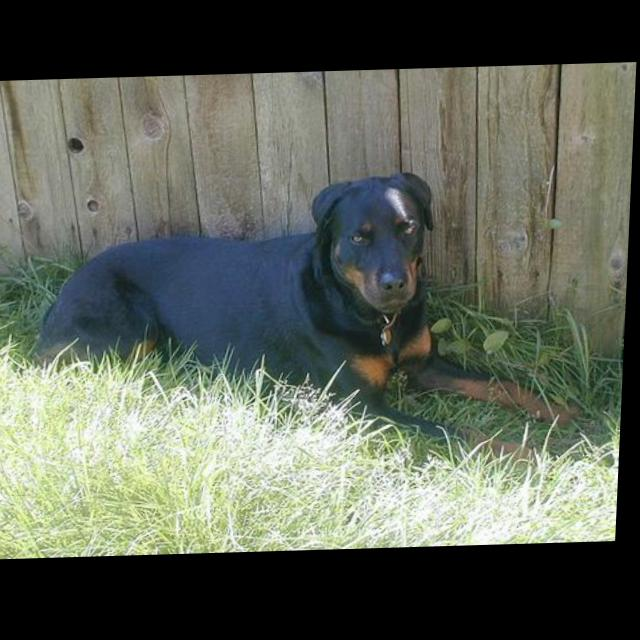rottweiler: (30, 168, 597, 482)
